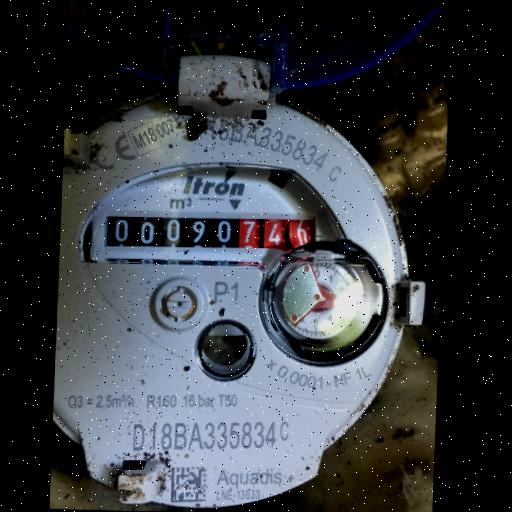0: (158, 217, 187, 246), (133, 216, 160, 246), (211, 218, 238, 248), (107, 217, 134, 246)
4: (261, 218, 286, 249)
6: (284, 218, 316, 250)
7: (236, 219, 263, 249)
9: (186, 218, 213, 247)
border_water_meter_number: (102, 209, 316, 257)
